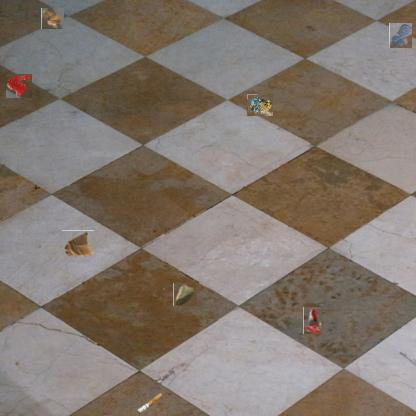dirty: (62, 230, 94, 259), (135, 394, 165, 416), (247, 94, 273, 116), (173, 283, 197, 306), (303, 306, 322, 334), (42, 7, 64, 30)
liquid: (6, 74, 32, 98), (389, 22, 412, 48)
